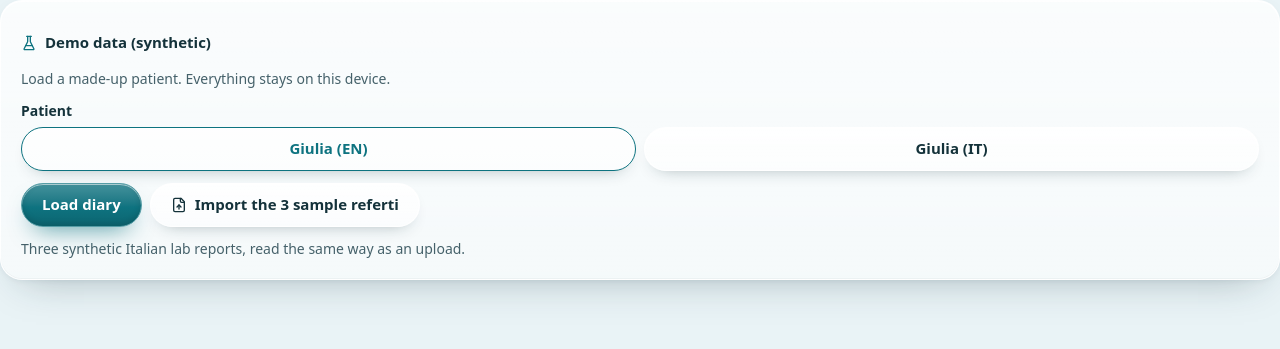
Test: Italian screens › demo menu loads the Italian persona and switches the app to Italian
Click the button "Giulia (IT)".
click(952, 149)  # box [644,127,1259,171]
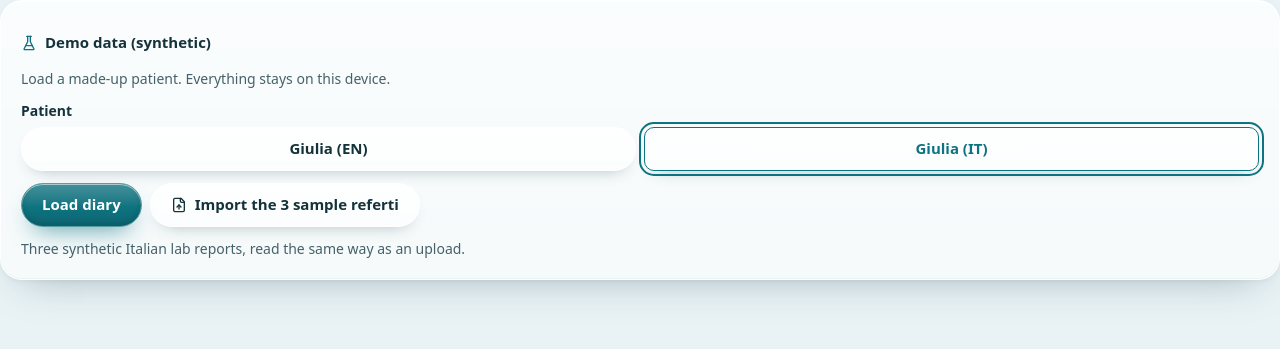
Click the button "Load diary".
click(81, 205)  # box [21,183,142,227]
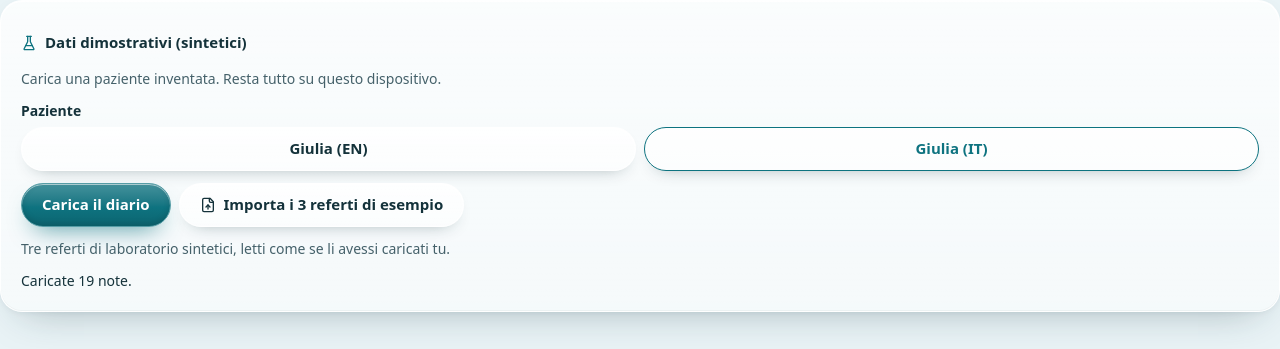
Expected: the text "Caricate 19 note." is shown, [21,271,132,290]
